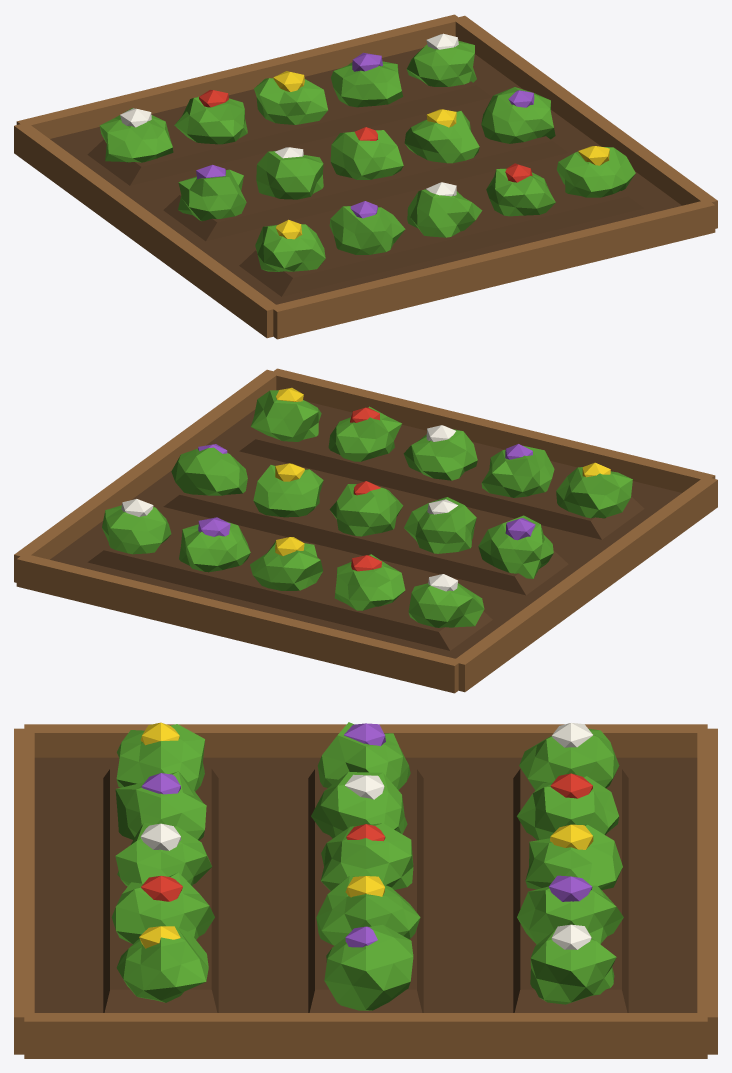
Rendered from garden_plot_3.glb.
The picture shows the model from 3 angles, top to bottom: view 1: azimuth 30°, elevation 25°; view 2: azimuth 150°, elevation 25°; view 3: azimuth 270°, elevation 25°; orthographic projection. The views are drawn at different scales.
Parts seen in each view (by area): view 1: garden_plot_3; view 2: garden_plot_3; view 3: garden_plot_3.
Boxes of the visible parts, <box> form: garden_plot_3: <box>14,14,717,339</box>; garden_plot_3: <box>14,368,717,693</box>; garden_plot_3: <box>14,722,717,1058</box>.
Size of what is drawn, in the model's own units: 4.12 by 0.5596 by 4.12.
